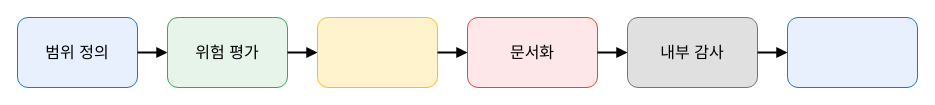
This 935x105 diagram has some shape labels left out. Each missing label, with the box of its shape:
인증 심사: (786, 16, 918, 88)
통제 구현: (316, 16, 438, 88)
